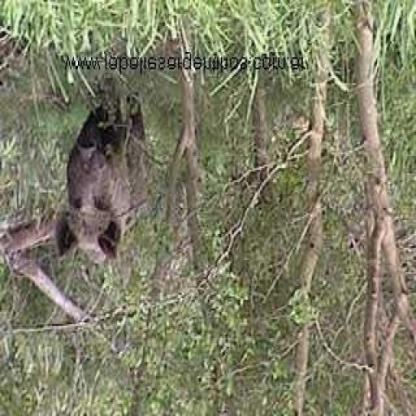boar: (40, 52, 180, 271)
